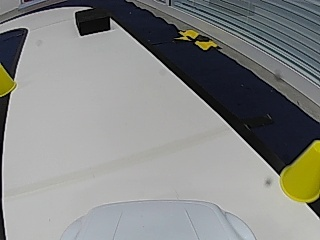block: (75, 8, 110, 35)
cone: (280, 141, 319, 202), (0, 65, 19, 95)
